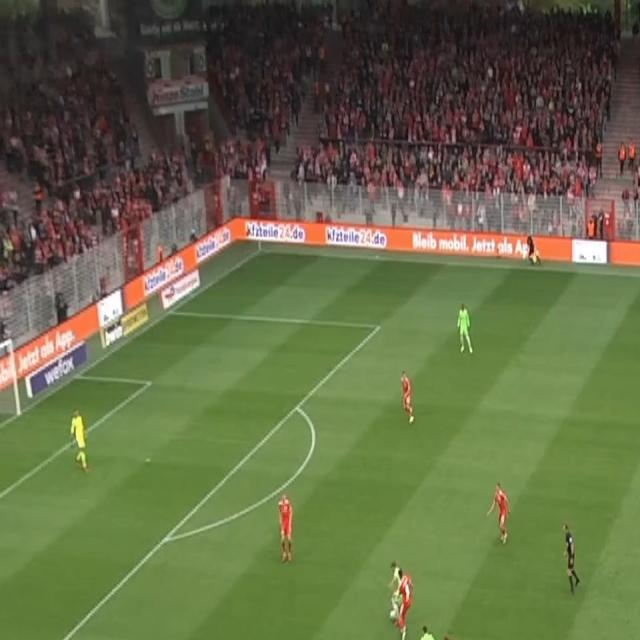ball: (388, 607, 396, 622)
